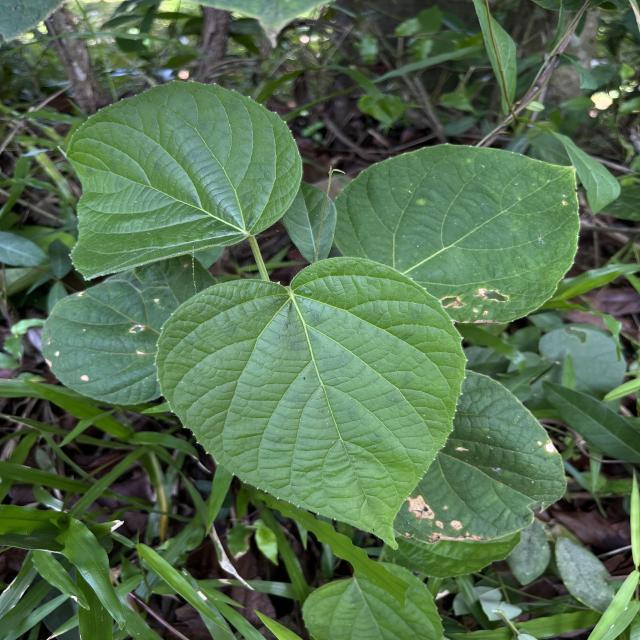Clerodendrum infortunatum: (154, 253, 472, 551), (56, 76, 306, 282), (330, 140, 586, 327)
